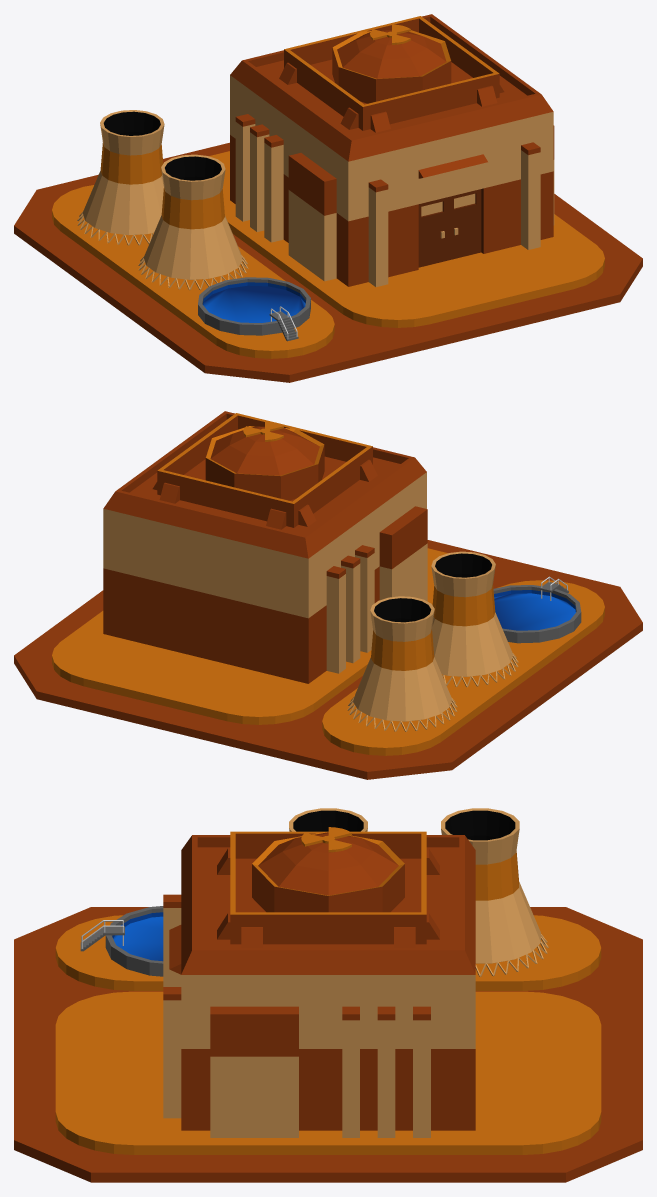
The model's file is PowerPlant_Yellow.fbx.
3 views of the same model, one above another, from view 1: azimuth 30°, elevation 25°; view 2: azimuth 150°, elevation 25°; view 3: azimuth 270°, elevation 25° (orthographic). The views are drawn at different scales.
Visible parts, largest first — view 1: Power plant orange.001, Plane.004; view 2: Power plant orange.001, Plane.004; view 3: Power plant orange.001, Plane.004.
Boxes of the visible parts, x1,y1,x2,y2 form: Power plant orange.001: (14,14,642,382); Plane.004: (203,285,305,322); Power plant orange.001: (14,411,642,779); Plane.004: (494,593,575,630); Power plant orange.001: (14,808,642,1182); Plane.004: (113,916,163,961).
Bounding box in the file's own units: 576 × 252 × 576.
